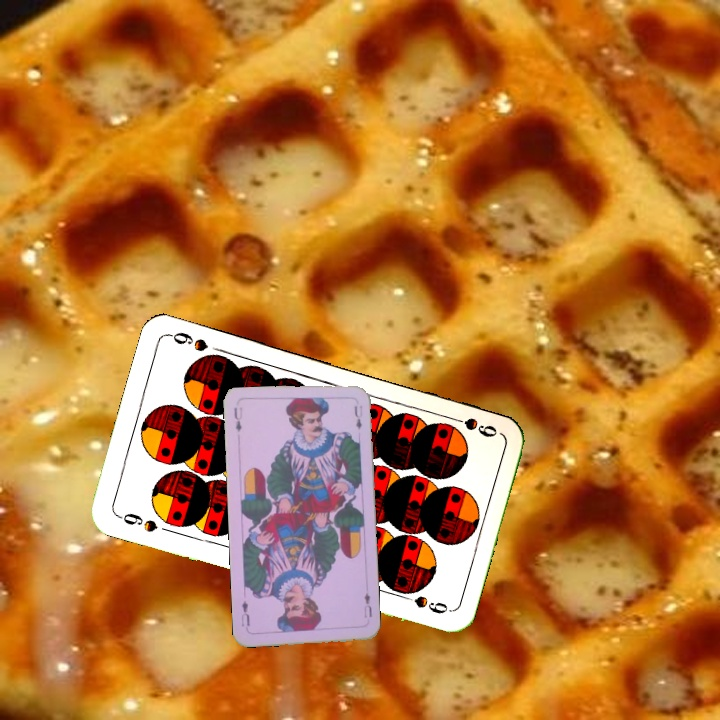EU: (230, 403, 245, 434), (360, 589, 374, 620)
S9: (442, 412, 500, 440), (113, 509, 160, 535)
